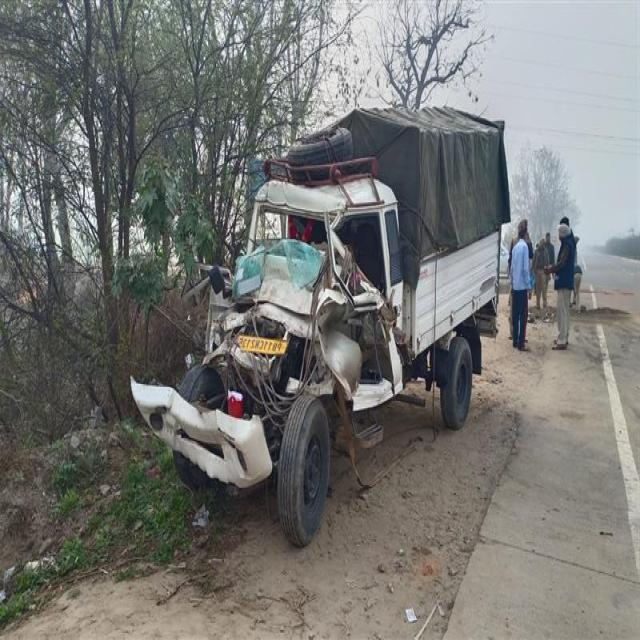accident: (131, 109, 510, 546)
